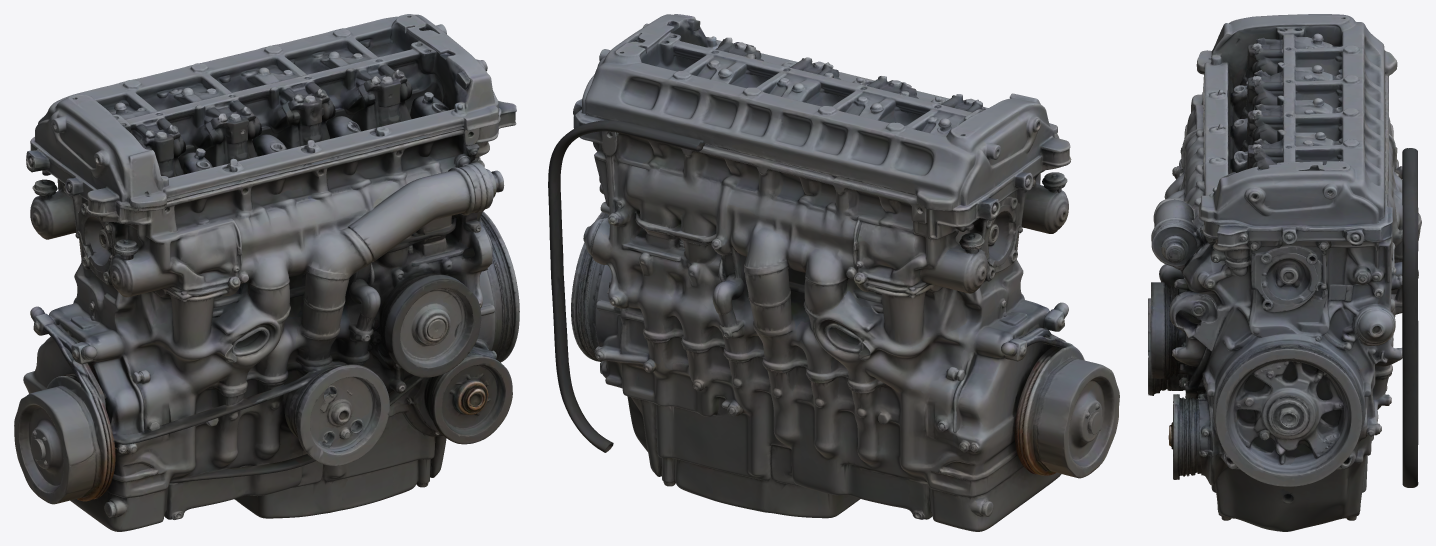
The model's file is ice.glb.
The picture shows the model from 3 angles, left to right: view 1: azimuth 30°, elevation 25°; view 2: azimuth 150°, elevation 25°; view 3: azimuth 270°, elevation 25°; orthographic projection. The views are drawn at different scales.
Parts seen in each view (by area): view 1: tripo_node_8e75a041-bc51-47dd-b734-7a760d68e4b5; view 2: tripo_node_8e75a041-bc51-47dd-b734-7a760d68e4b5; view 3: tripo_node_8e75a041-bc51-47dd-b734-7a760d68e4b5.
Boxes of the visible parts, x1,y1,x2,y2 form: tripo_node_8e75a041-bc51-47dd-b734-7a760d68e4b5: [14, 14, 519, 531]; tripo_node_8e75a041-bc51-47dd-b734-7a760d68e4b5: [548, 14, 1119, 531]; tripo_node_8e75a041-bc51-47dd-b734-7a760d68e4b5: [1148, 14, 1421, 531].
Size of the model in its own units: 0.9842 by 0.8353 by 0.55.
Materials: 1 (1 with a texture image).
